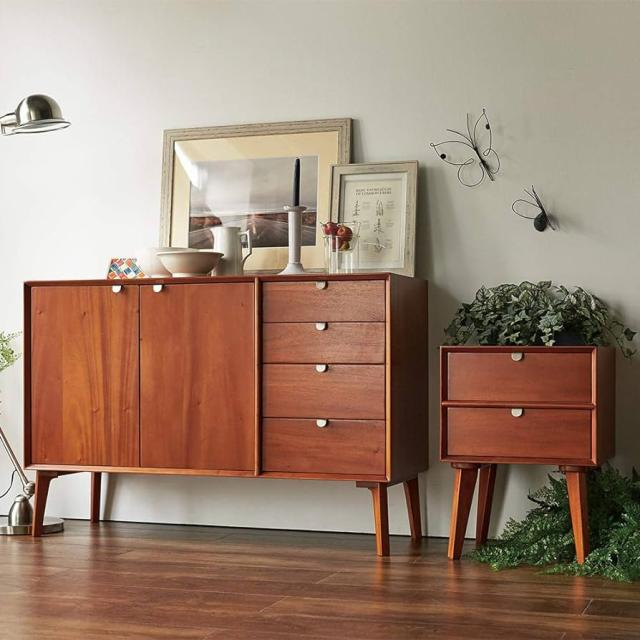vintage shelf: (25, 272, 428, 560), (441, 343, 625, 566)
